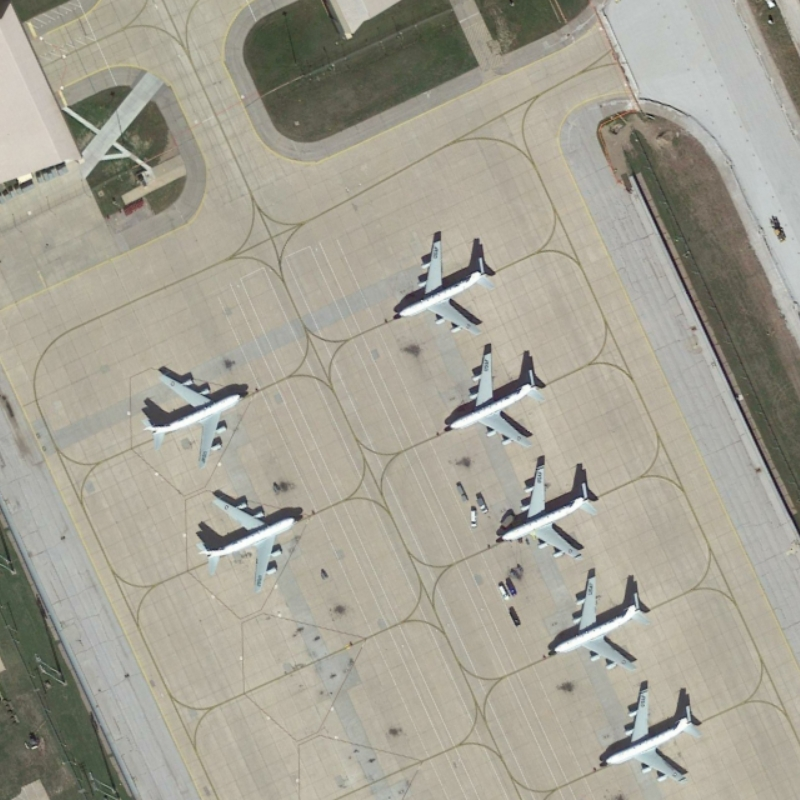A11: (136, 355, 256, 473), (185, 484, 310, 597), (387, 224, 502, 342), (488, 450, 605, 564), (593, 678, 710, 790), (436, 340, 548, 455), (543, 563, 654, 676)
